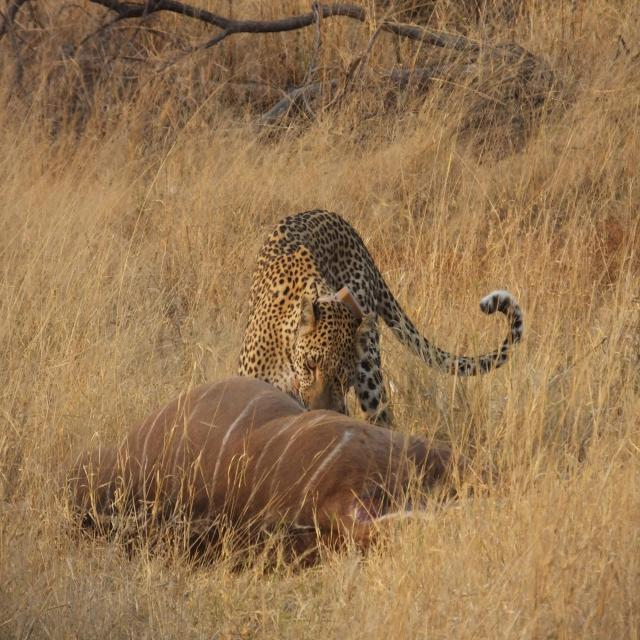Leopard: (221, 204, 507, 426)
